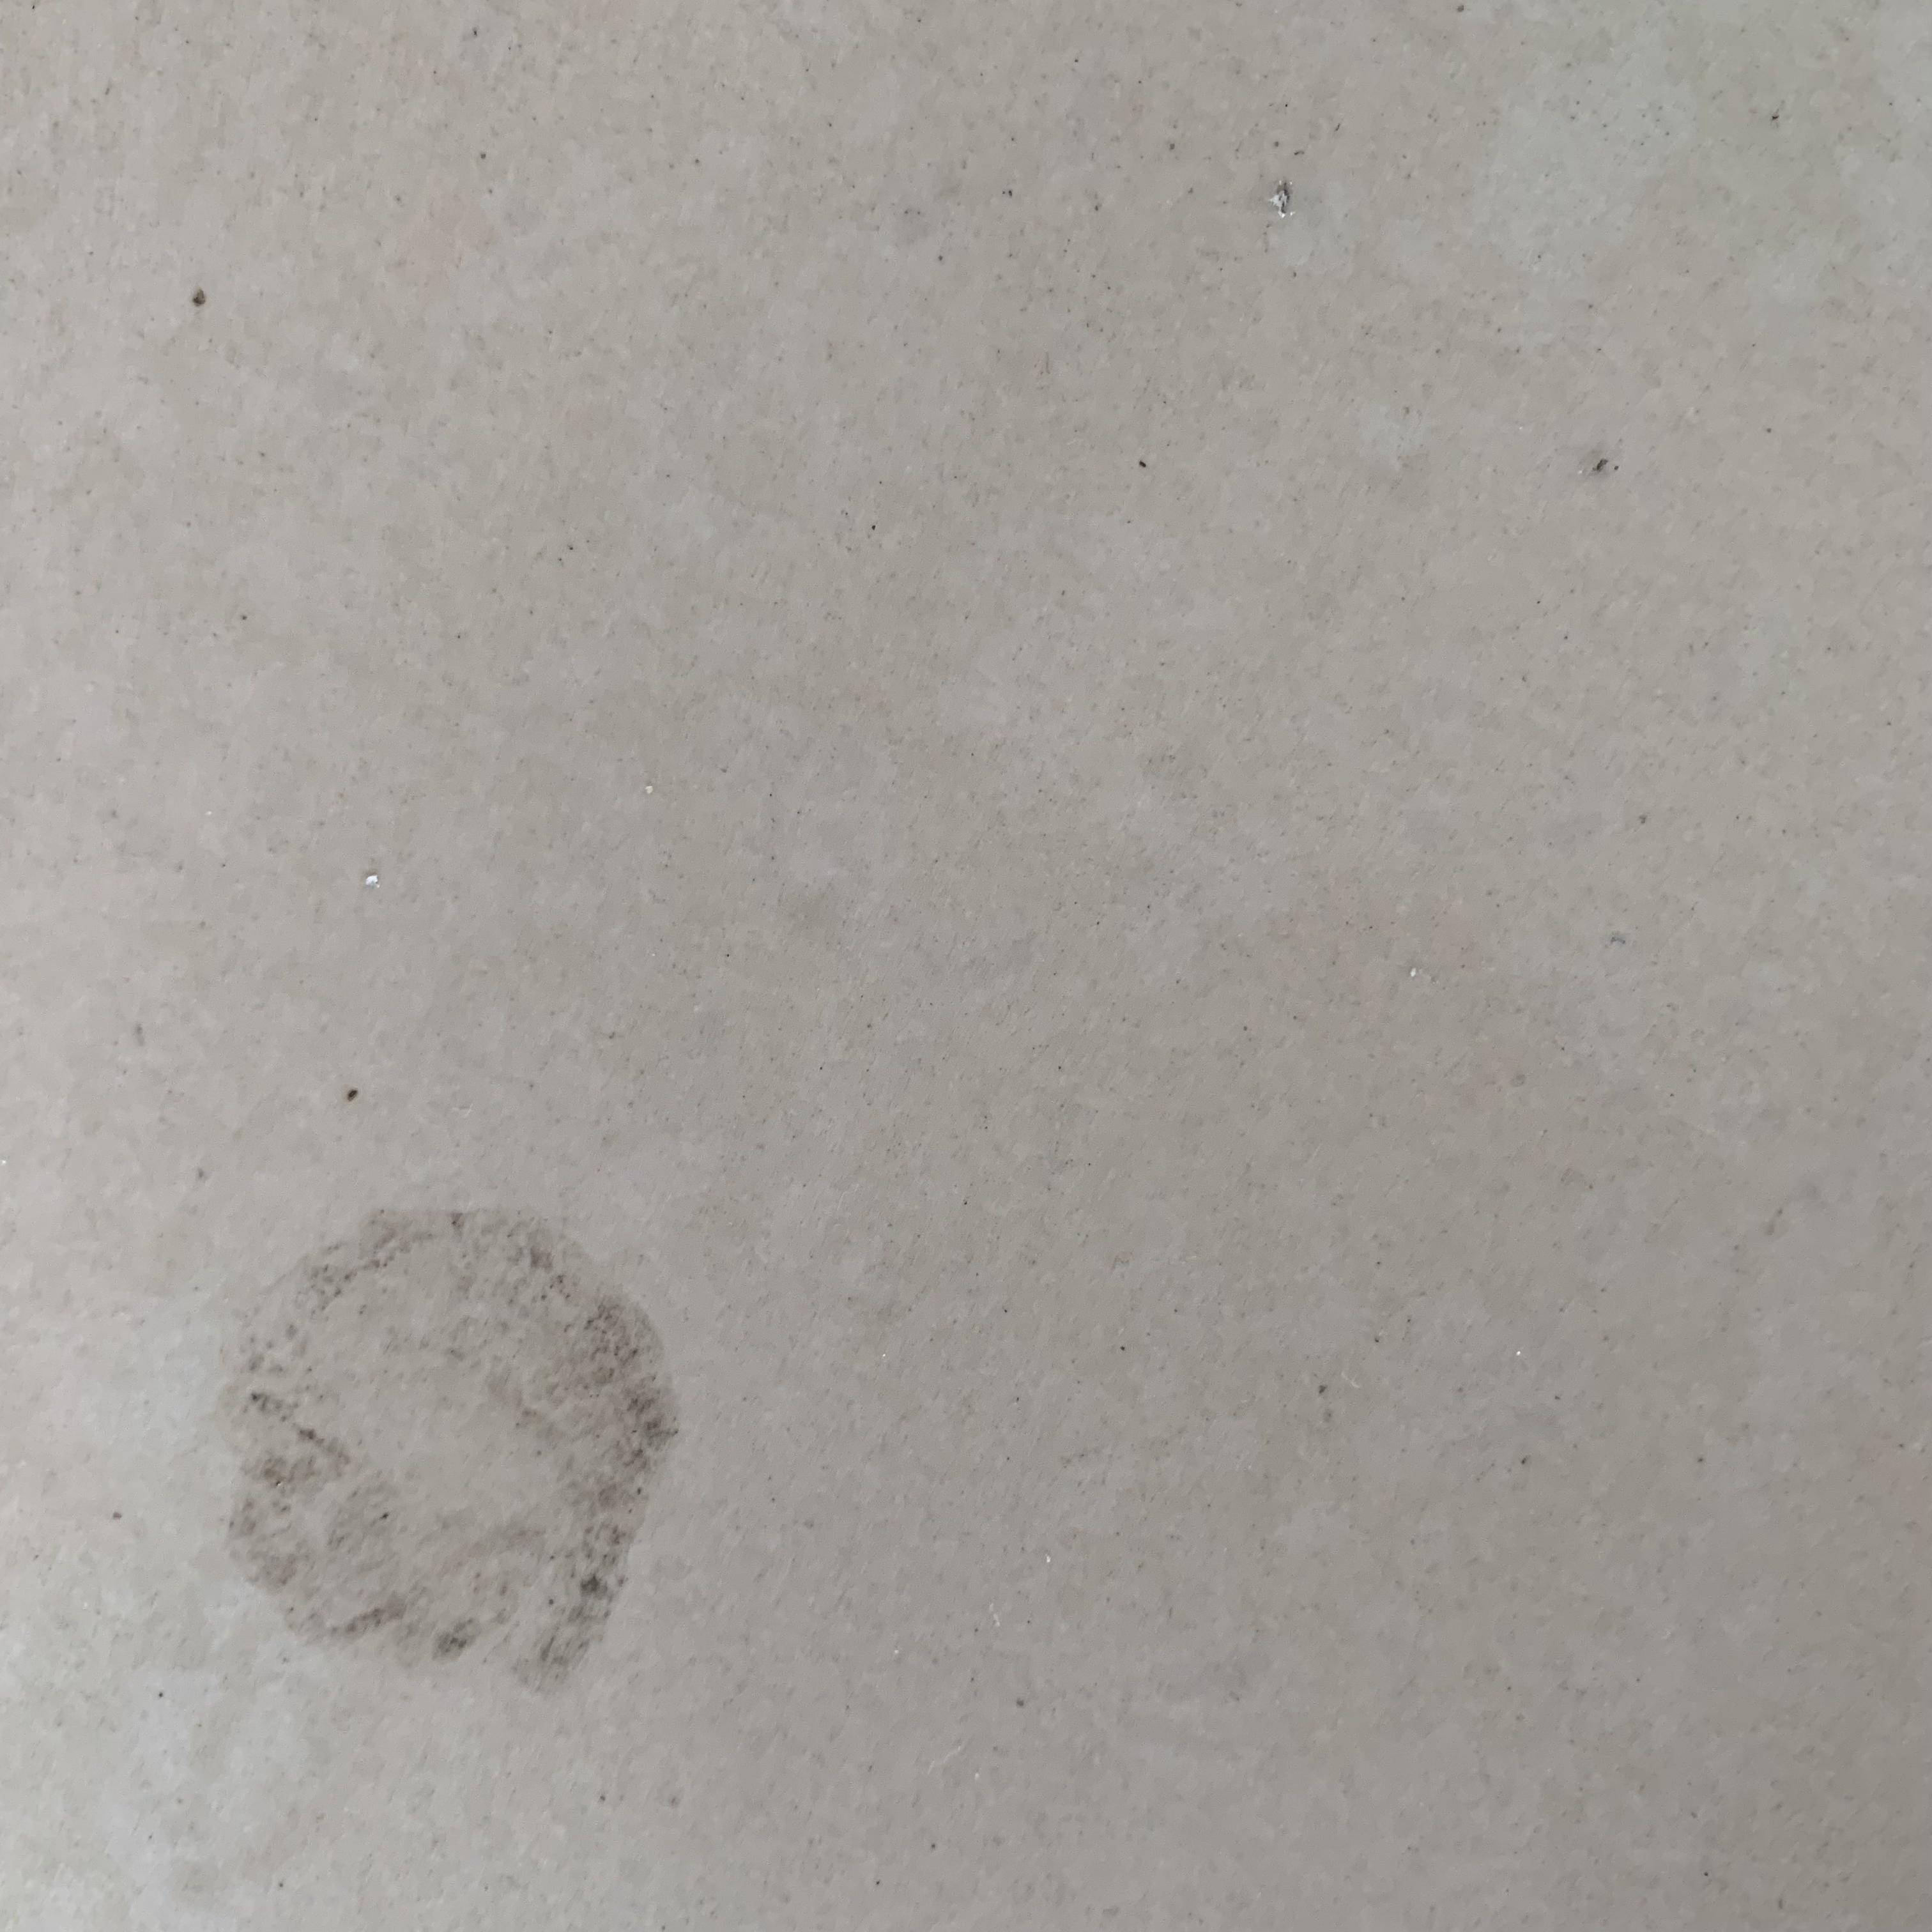grey spot: (214, 1205, 679, 1698)
